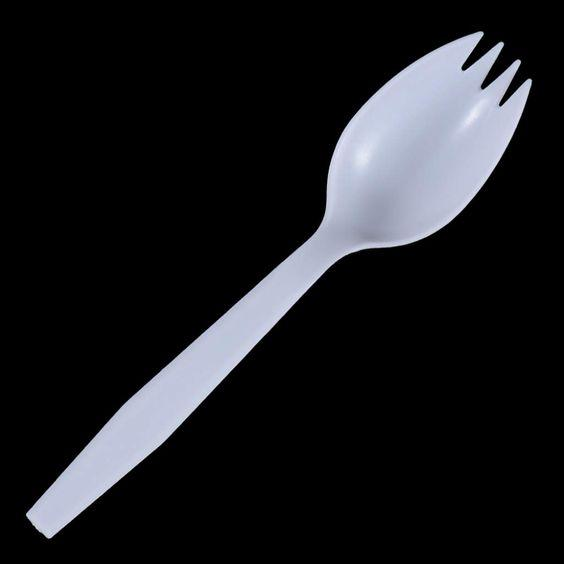PP: (26, 32, 530, 541)
